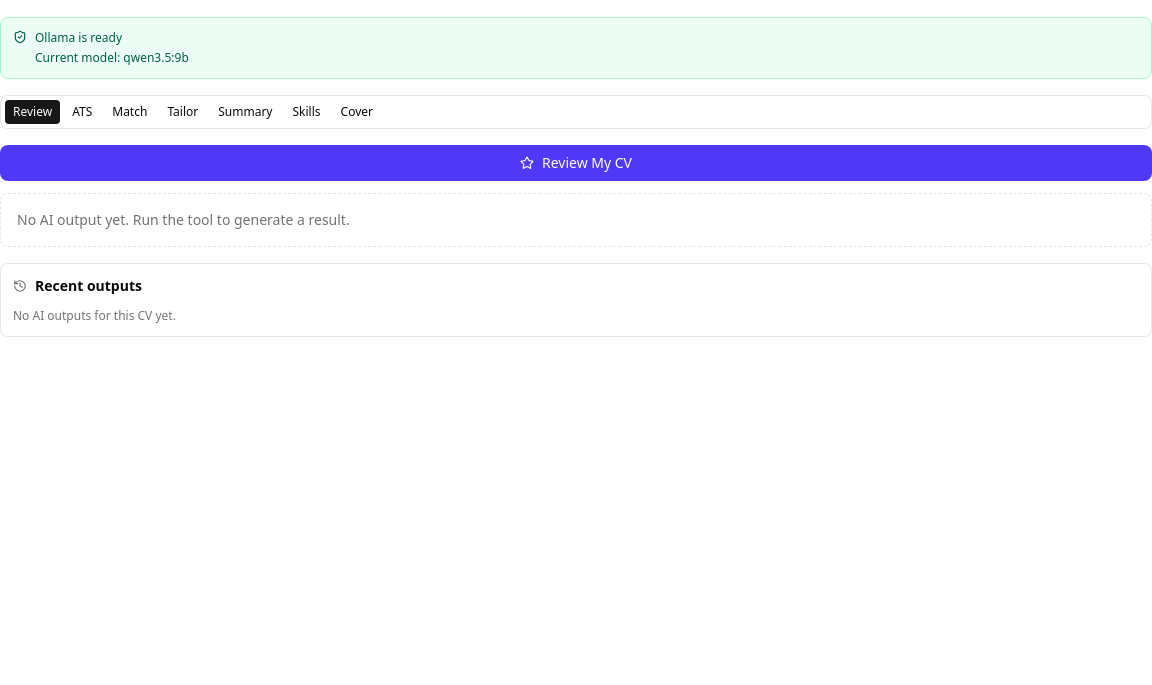
Test: AIAssistPanel › renders ATS enrichment details when available
Click the button with test id "ai-tab-ats". click: click(82, 112)
box: x1=64 y1=100 x2=100 y2=124
(page scrolled)
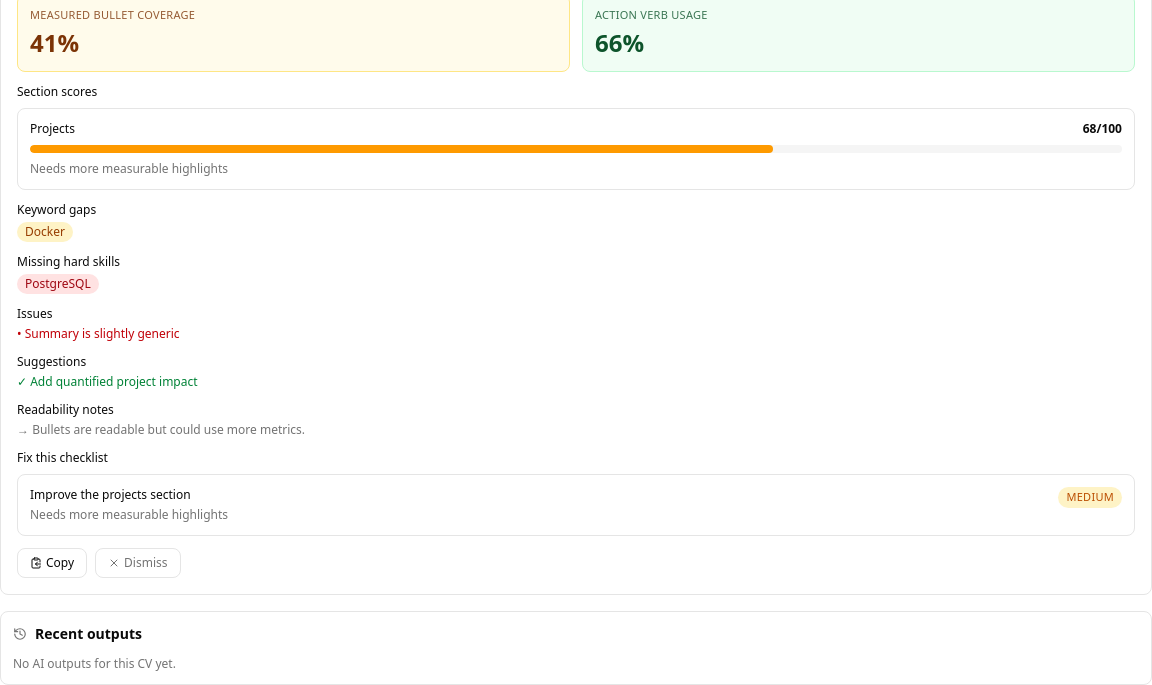
Expected: the text "Keyword gaps" is shown, x1=17 y1=201 x2=96 y2=218
Expected: the text "Docker" is shown, x1=17 y1=222 x2=73 y2=242
Expected: the text "Fix this checklist" is shown, x1=17 y1=449 x2=108 y2=466
